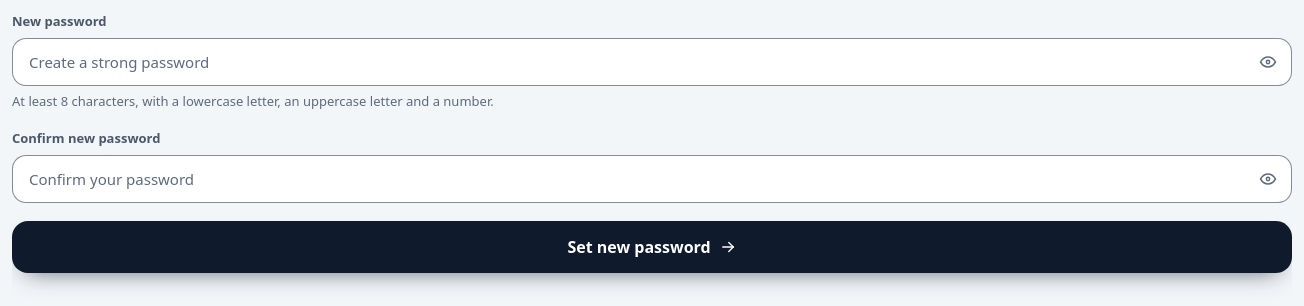
Test: ResetPasswordForm validation › refuses Pass1 with the registration rule
Type "Pass1" into the password field labelled "New password". click: {"x": 652, "y": 62}
box: [12,38,1292,86]
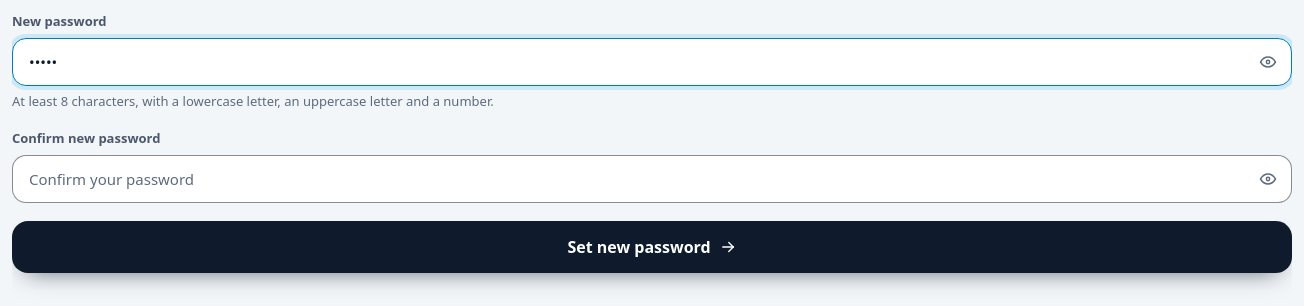
Type "Pass1" into the password field labelled "Confirm new password". click: {"x": 652, "y": 178}
box: [12,154,1292,202]
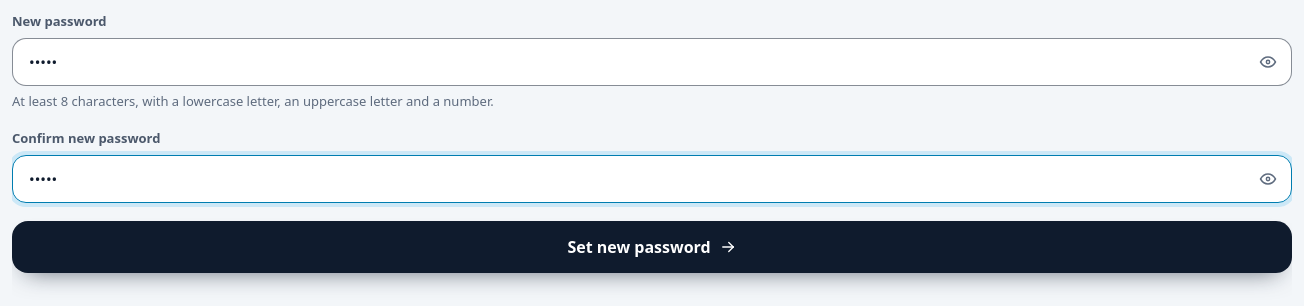
Click the button "Set new password". click: {"x": 652, "y": 246}
box: [12,220,1292,272]
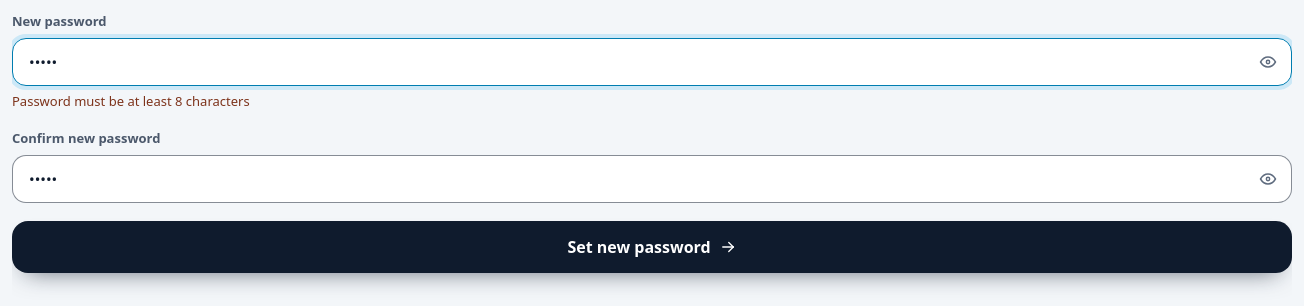
Expected: the text "Password must be at least 8 characters" is shown, [12,92,250,110]
